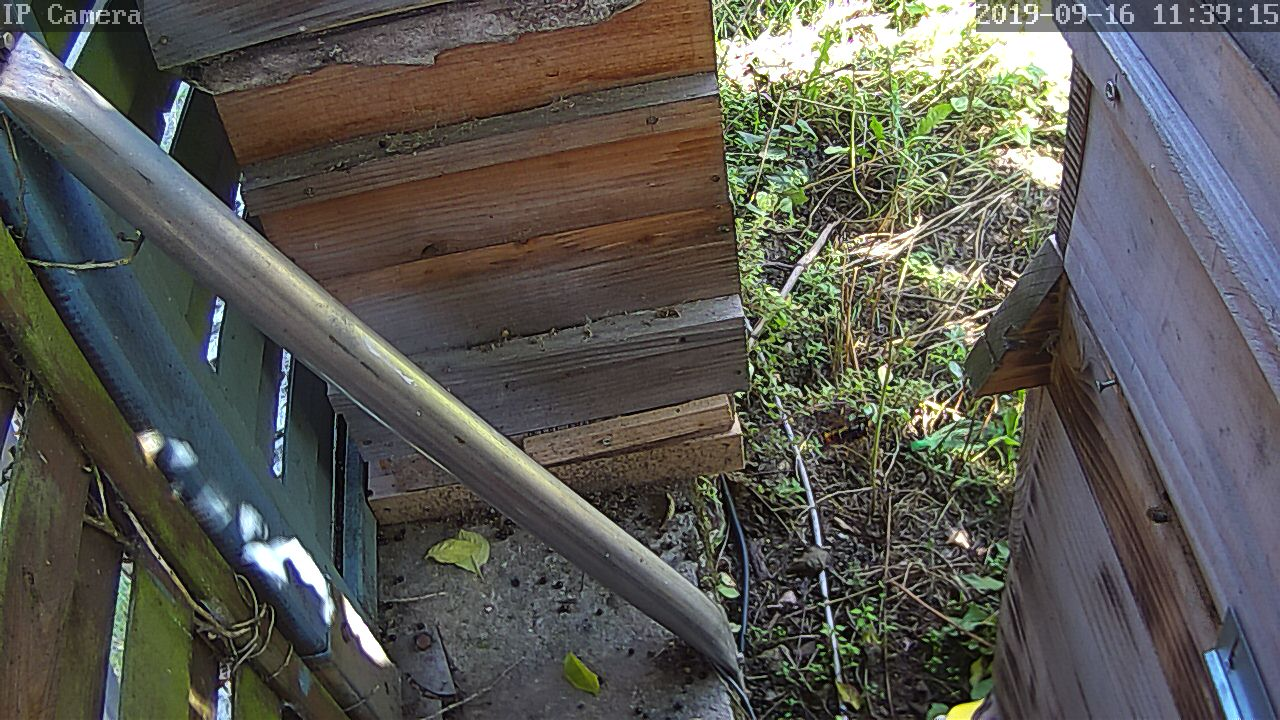bee: (1143, 495, 1173, 527)
hornet: (806, 405, 870, 450)
